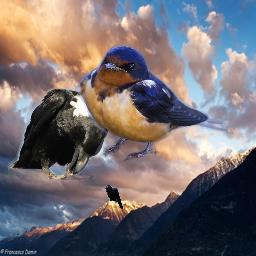Crow: (8, 86, 117, 182), (105, 185, 123, 210)
Swallow: (75, 44, 228, 161)
